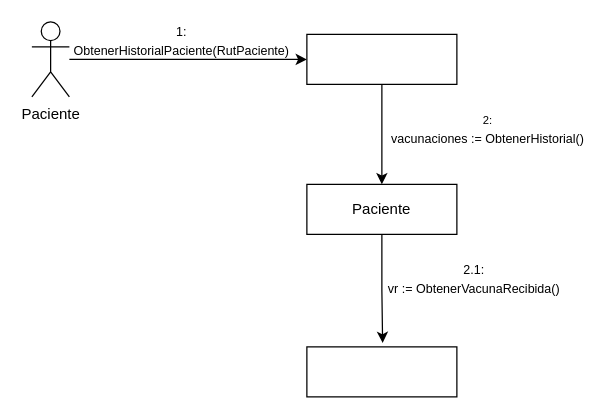
Image size: 616x419. Some labels were removed from this diagram. The centre of each missing label's shape, as x and y in pixels:
"GestorConsultas" belongs at (x=381, y=58).
"Vacunacion" belongs at (x=381, y=371).
